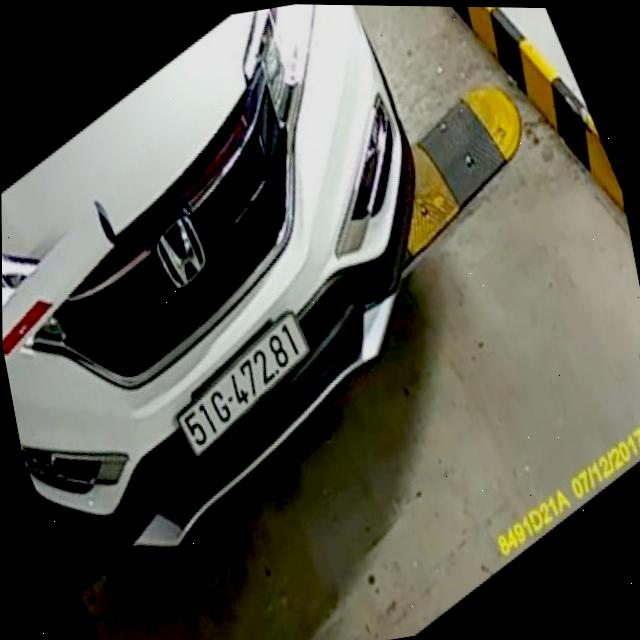car: (0, 0, 478, 578)
plate: (160, 306, 325, 459)
